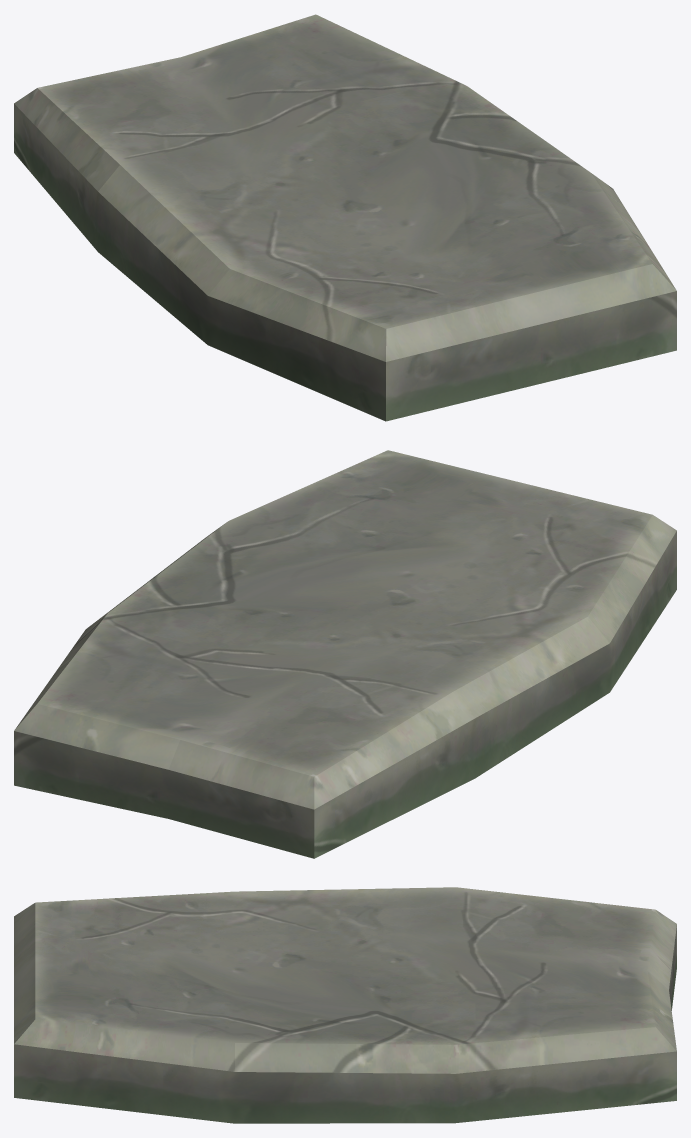
Rendered from Stele01.FBX.
3 views of the same model, one above another, from view 1: azimuth 30°, elevation 25°; view 2: azimuth 150°, elevation 25°; view 3: azimuth 270°, elevation 25° (orthographic). The views are drawn at different scales.
Parts seen in each view (by area): view 1: Stele01; view 2: Stele01; view 3: Stele01.
Boxes of the visible parts, x1,y1,x2,y2 form: Stele01: (14,14,676,421); Stele01: (14,450,676,858); Stele01: (14,887,676,1123).
Size of the model in its own units: 20.1 by 3.88 by 31.62.
